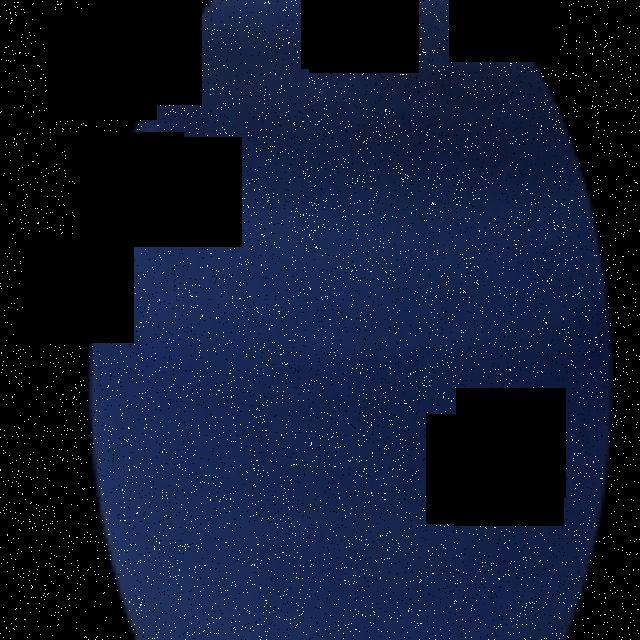Neptune: (85, 0, 617, 640)
